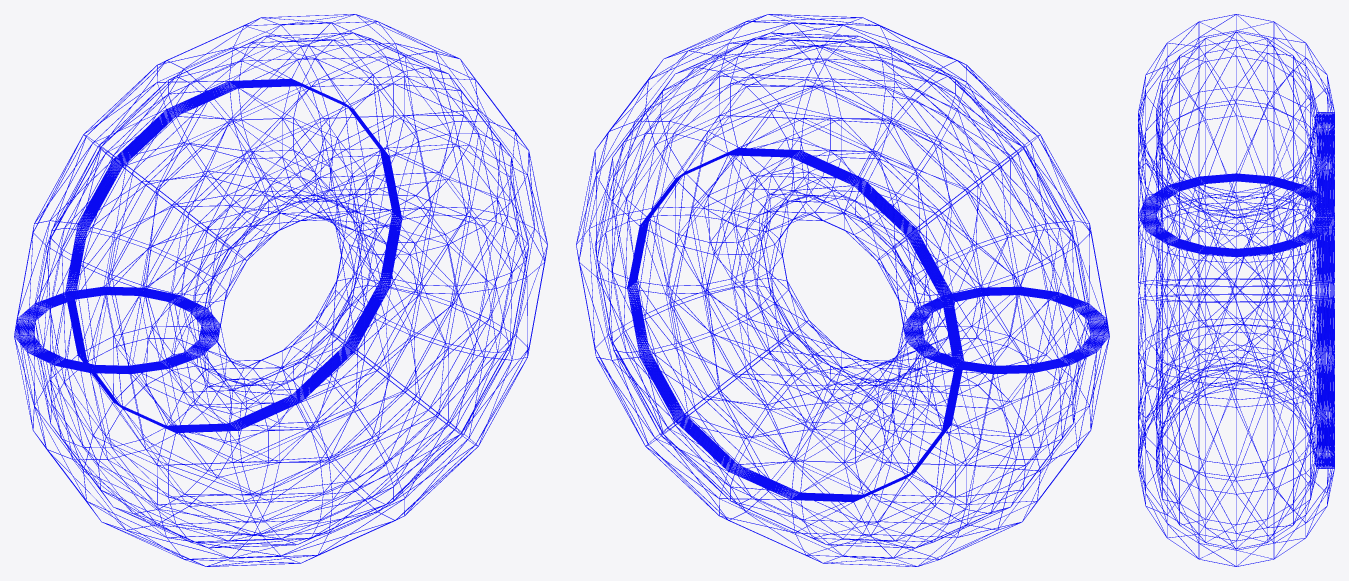
The model's file is TorusVolumed.glb.
The picture shows the model from 3 angles, left to right: view 1: azimuth 30°, elevation 25°; view 2: azimuth 150°, elevation 25°; view 3: azimuth 270°, elevation 25°; orthographic projection. The views are drawn at different scales.
Bounding box in the file's own units: 6.21 × 6.21 × 2.21.
